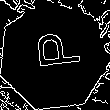P_W: (26, 35, 81, 78)
